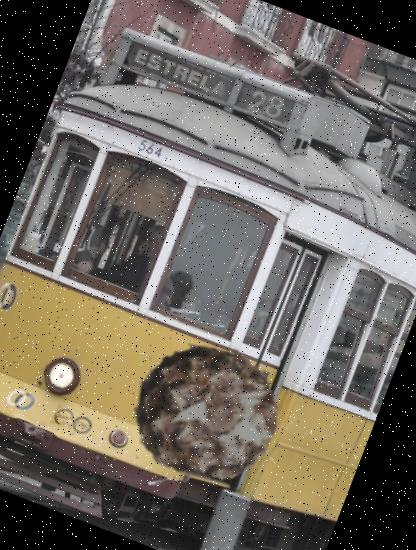Pineapple: (112, 318, 302, 509)
